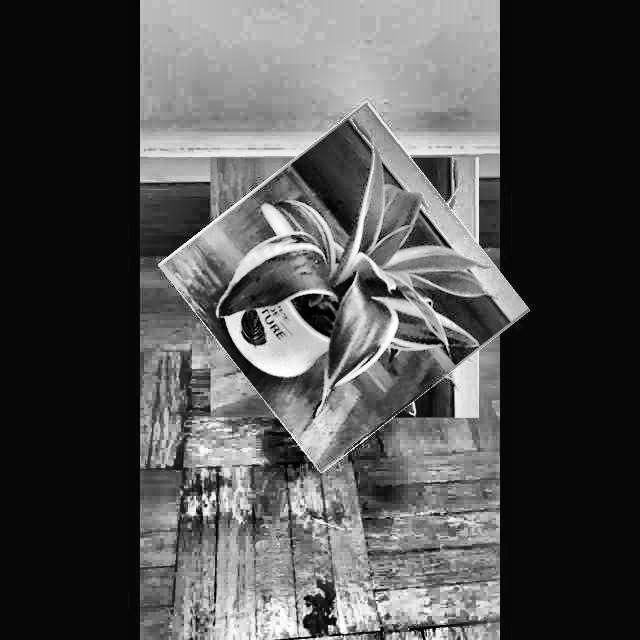plants: (186, 128, 504, 446)
